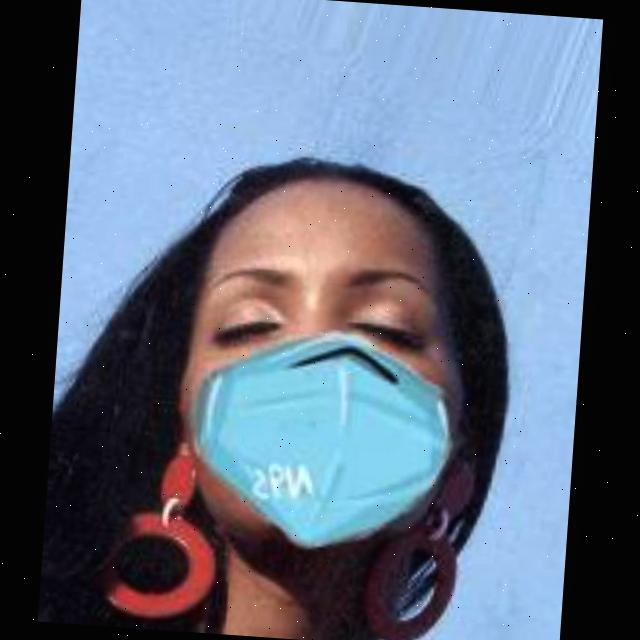suspicion: (140, 138, 482, 570)
